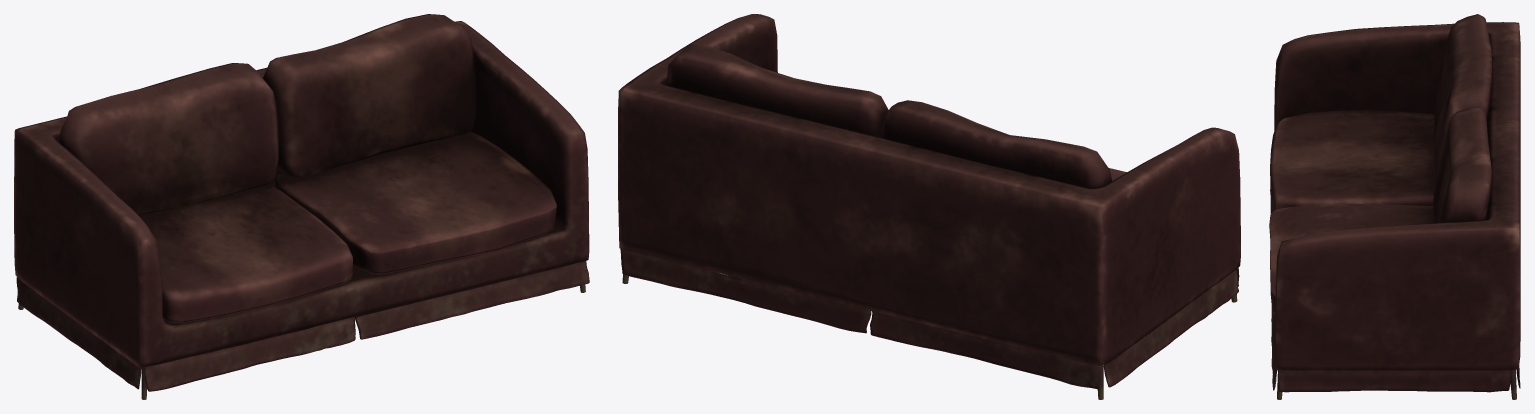
File: old-couch-443d9b.glb
The picture shows the model from 3 angles, left to right: view 1: azimuth 30°, elevation 25°; view 2: azimuth 150°, elevation 25°; view 3: azimuth 270°, elevation 25°; orthographic projection. The views are drawn at different scales.
Visible parts, largest first — view 1: PropMesh; view 2: PropMesh; view 3: PropMesh.
Boxes of the visible parts, x1,y1,x2,y2 form: PropMesh: (14, 14, 589, 399); PropMesh: (618, 14, 1240, 399); PropMesh: (1269, 14, 1520, 399).
Bounding box in the file's own units: 1.91 × 0.85 × 0.9643.
1 material, 1 textured.
